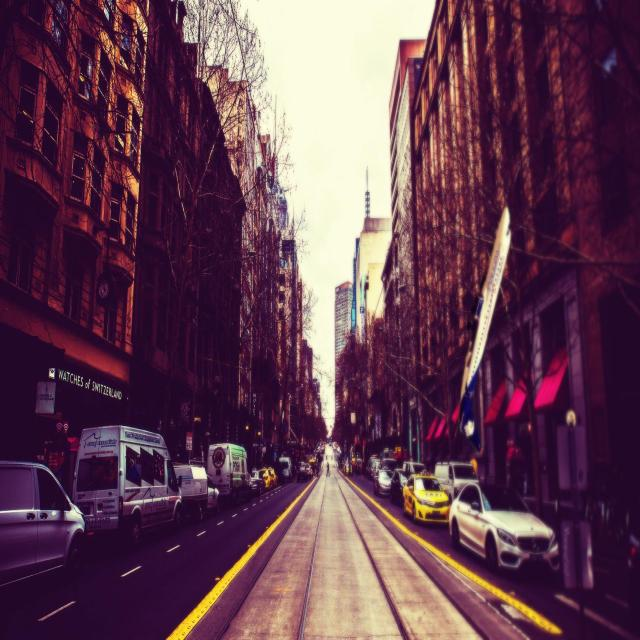airplane: (456, 203, 512, 434)
